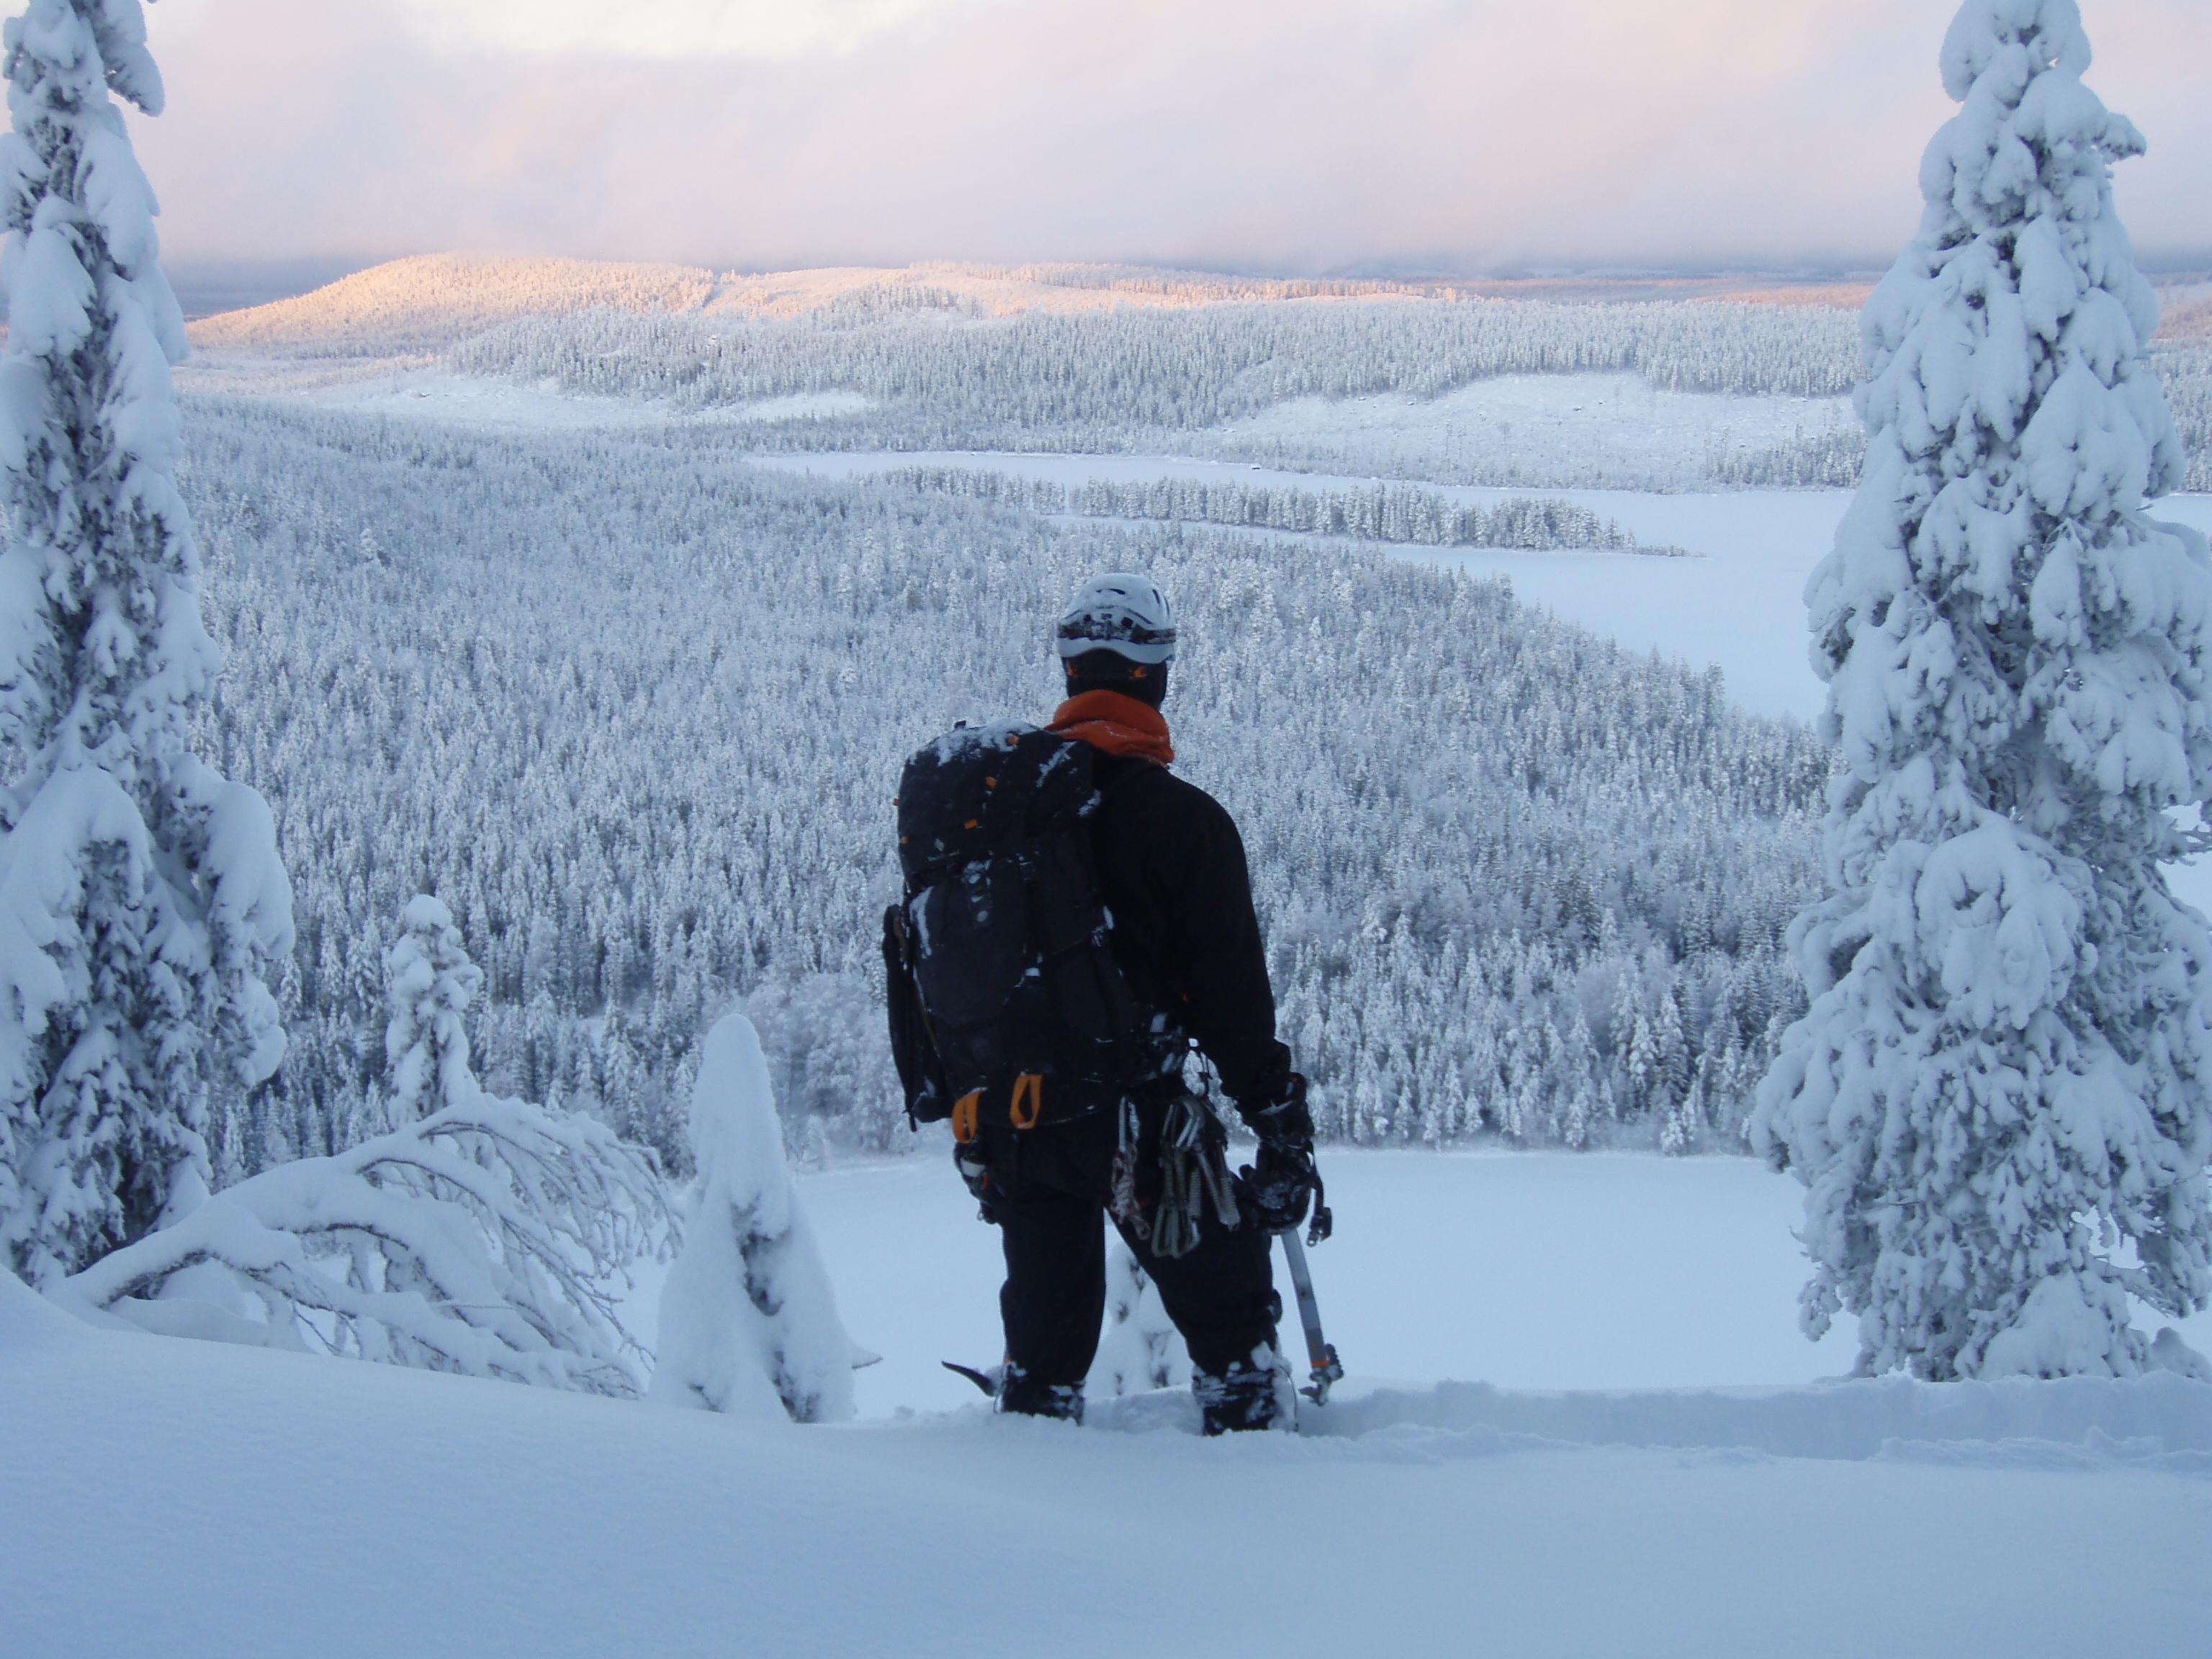helmet: (1038, 552, 1190, 683)
